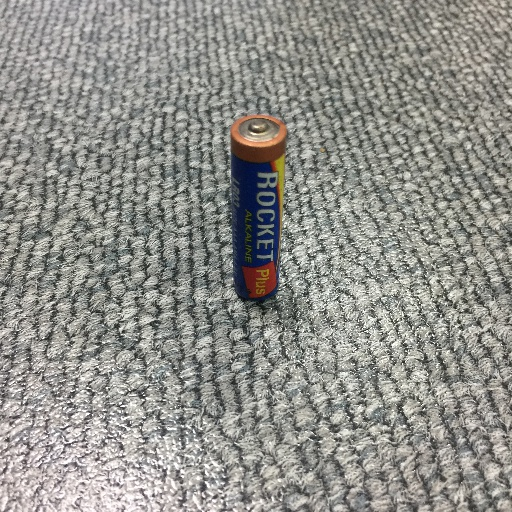Battery_0: (223, 108, 289, 308)
